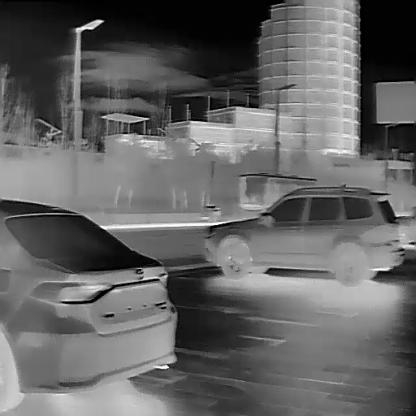car: (0, 195, 177, 415), (204, 183, 404, 285)
